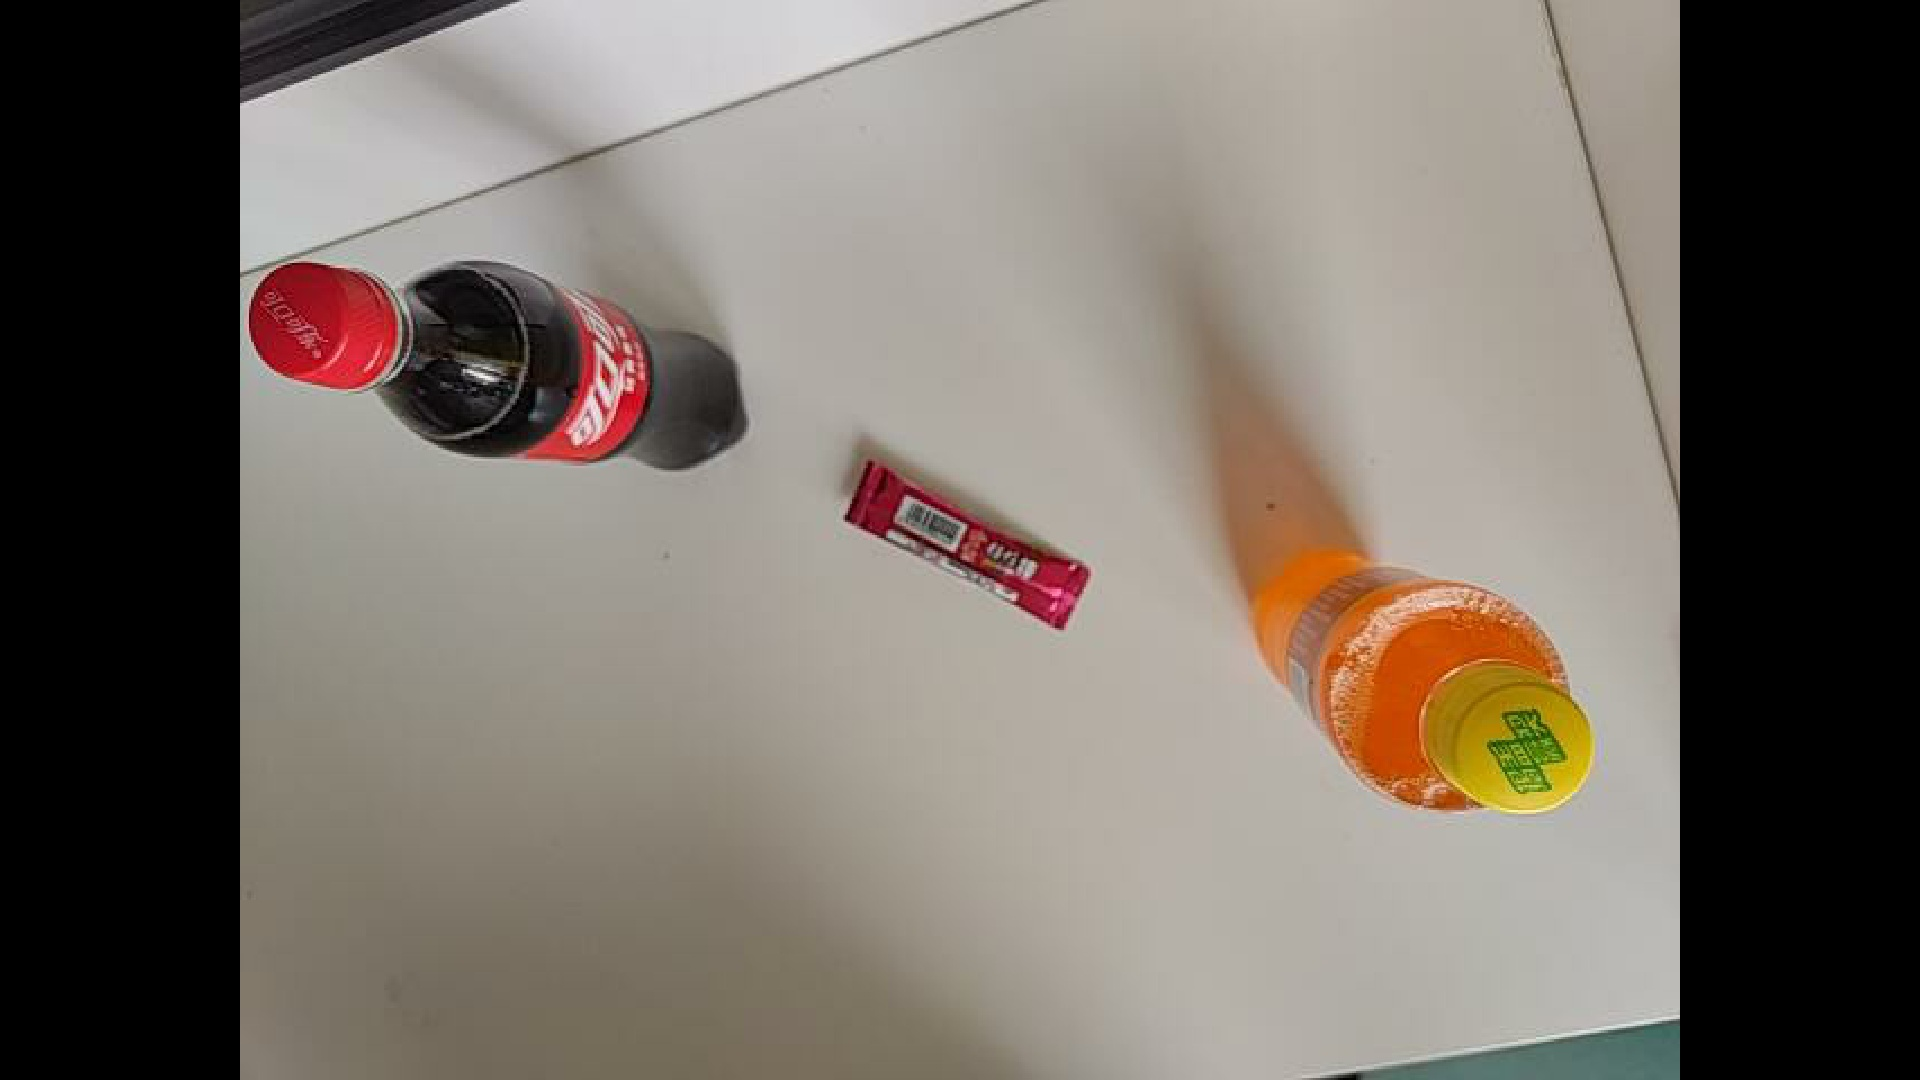cola: (248, 256, 750, 473)
fenta: (1250, 543, 1596, 818)
sugar: (810, 456, 1100, 589)
